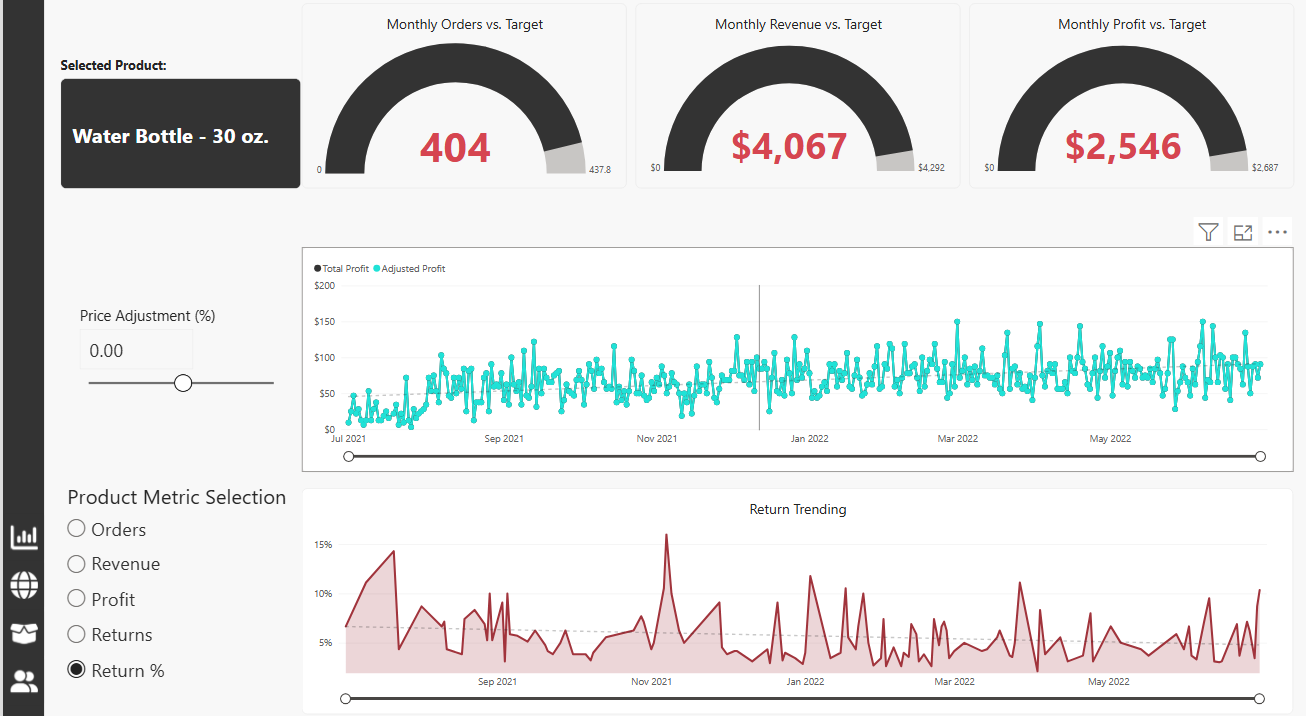

The page's visual inventory and layout, read from the dashboard file:
{"tool":"powerbi","page":{"name":"Product Detail","canvas":[1920,1080],"ordinal":2},"visuals":[{"type":"shape","box":[0,0,60,1079.9],"z":0},{"type":"actionButton","box":[2,761.4,58,70],"z":0,"group":"g1"},{"type":"gauge","title":"Monthly Orders vs. Target","fields":{"MaxValue":["Measure Table.Order Target"],"Y":["Measure Table.Total Orders"]},"box":[432,24,470,268.3],"z":1000},{"type":"actionButton","box":[2,831.1,58,70],"z":1000,"group":"g1"},{"type":"gauge","title":"Monthly Profit vs. Target","fields":{"MaxValue":["Measure Table.Profit Target"],"Y":["Measure Table.Total Profit"]},"box":[1398,24,470,268.3],"z":2000},{"type":"actionButton","box":[2,900.7,58,70],"z":2000,"group":"g1"},{"type":"gauge","title":"Monthly Revenue vs. Target","fields":{"MaxValue":["Measure Table.Revenue Target"],"Y":["Measure Table.Total Revenue"]},"box":[915,24,470,268.3],"z":3000},{"type":"actionButton","box":[2,970.4,58,70],"z":3000,"group":"g1"},{"type":"lineChart","title":"Profit Trending","fields":{"Category":["Calendar Lookup.Date Hierarchy.Date"],"Y":["Measure Table.Total Profit","Measure Table.Adjusted Profit"]},"box":[432,376,1436,326],"z":4000},{"type":"areaChart","title":"Return Trending ","fields":{"Category":["Calendar Lookup.Date Hierarchy.Date"],"Y":["Measure Table.Total Orders"]},"box":[432.5,725,1435,327.5],"z":5000},{"type":"cardVisual","fields":{"Data":["Min(Product Lookup.ProductName)"]},"box":[84,132,348,160],"z":6000},{"type":"textbox","box":[83.8,100,300,32],"z":7000},{"type":"group","id":"g1","title":"Navigation Buttons","box":[2,761.4,58,279],"z":8000},{"type":"slicer","fields":{"Values":["Price Adjustment (%).Adjusted Price (%)"]},"box":[82.5,440,347.5,237.5],"z":9000},{"type":"slicer","fields":{"Values":["Product Metric Selection.Product Metric Selection"]},"box":[85,717.5,347.5,325],"z":10000}]}

Visuals, with their boxes on the page's 1920x1080 design canvas (x1, y1, x2, y2). These are canvas units, not pixel positions in the 1306x716 screenshot, which may show the page scaled, cropped or inside an application window:
shape: l=0, t=0, r=60, b=1080
actionButton: l=2, t=761, r=60, b=831
"Monthly Orders vs. Target" gauge: l=432, t=24, r=902, b=292
actionButton: l=2, t=831, r=60, b=901
"Monthly Profit vs. Target" gauge: l=1398, t=24, r=1868, b=292
actionButton: l=2, t=901, r=60, b=971
"Monthly Revenue vs. Target" gauge: l=915, t=24, r=1385, b=292
actionButton: l=2, t=970, r=60, b=1040
"Profit Trending" lineChart: l=432, t=376, r=1868, b=702
"Return Trending " areaChart: l=432, t=725, r=1868, b=1052
cardVisual - Min(Product Lookup.ProductName): l=84, t=132, r=432, b=292
textbox: l=84, t=100, r=384, b=132
"Navigation Buttons" group: l=2, t=761, r=60, b=1040
slicer - Price Adjustment (%).Adjusted Price (%): l=82, t=440, r=430, b=678
slicer - Product Metric Selection.Product Metric Selection: l=85, t=718, r=432, b=1042
